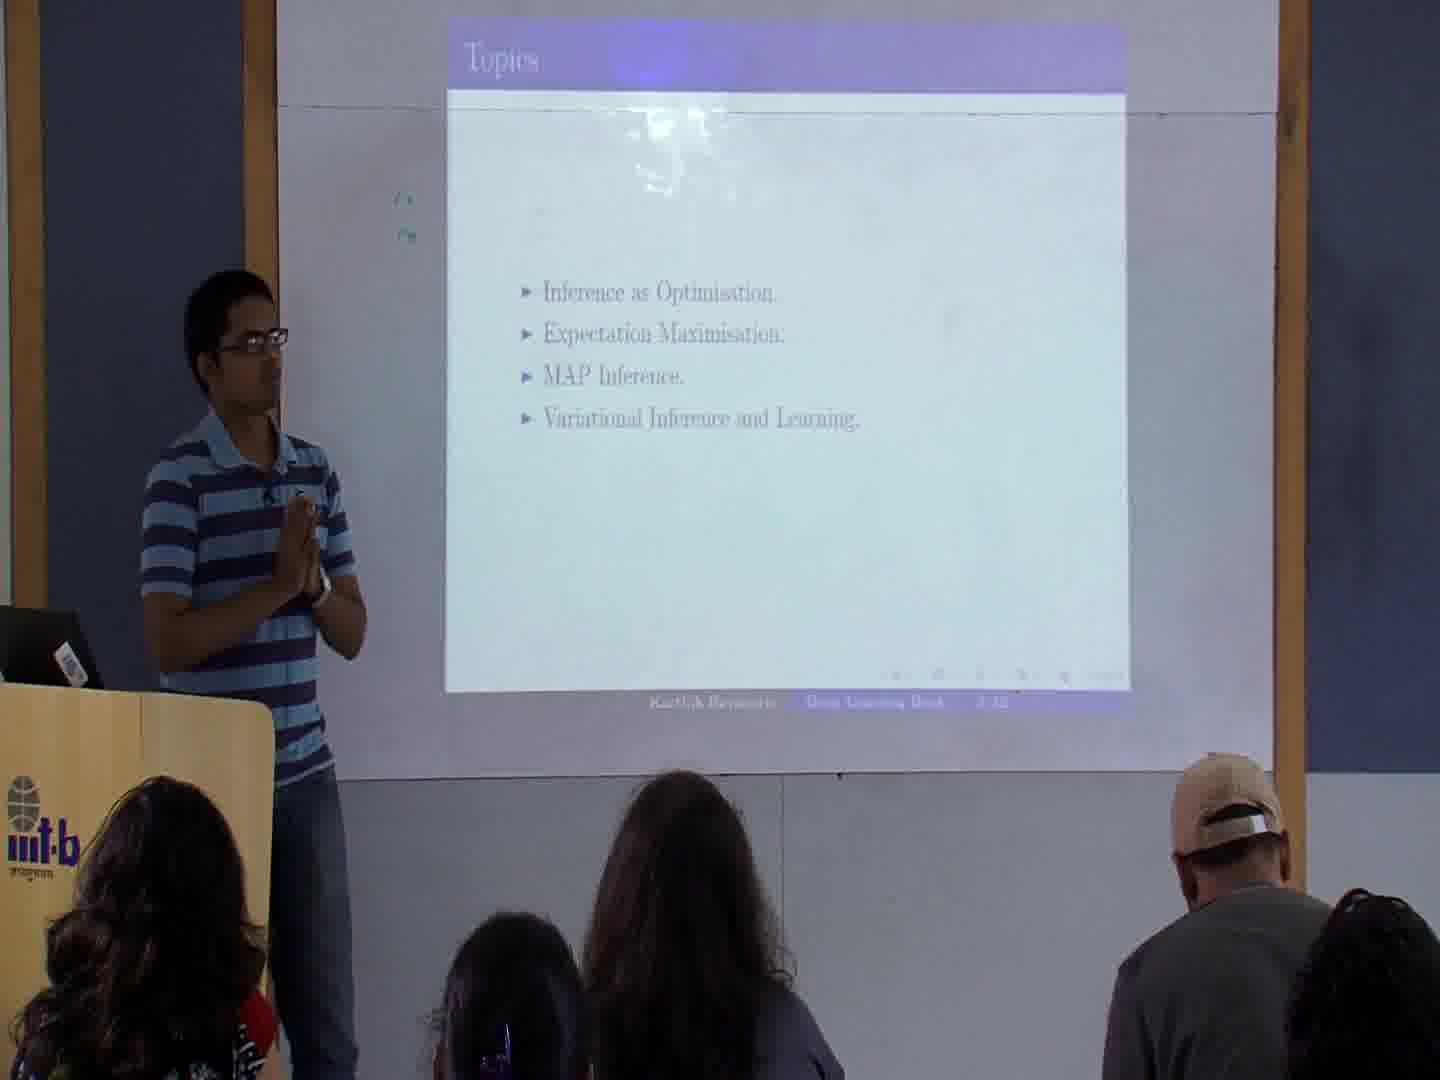slide: (443, 18, 1130, 715)
